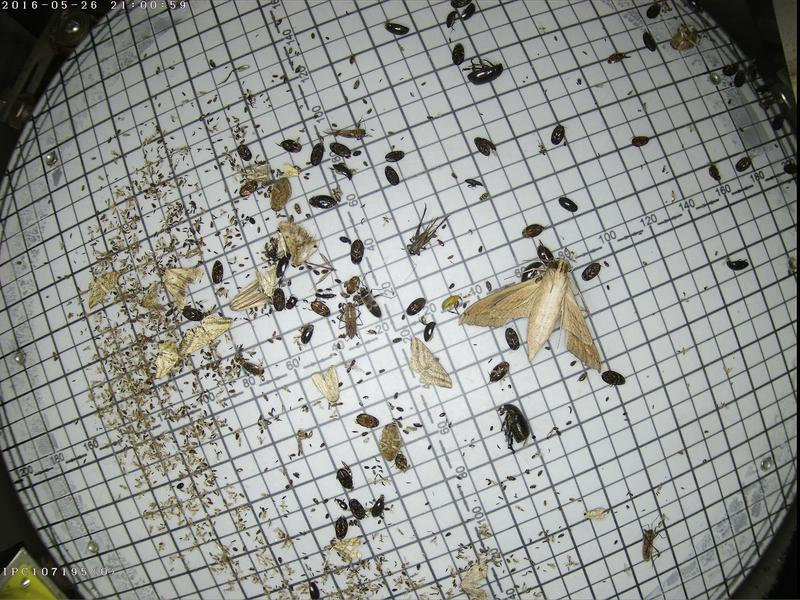Bollworm: (157, 262, 204, 309), (276, 215, 317, 266)
Rice Leaf Roller: (269, 228, 289, 259)
holotrichia oblita: (490, 401, 532, 455), (460, 53, 504, 86)
